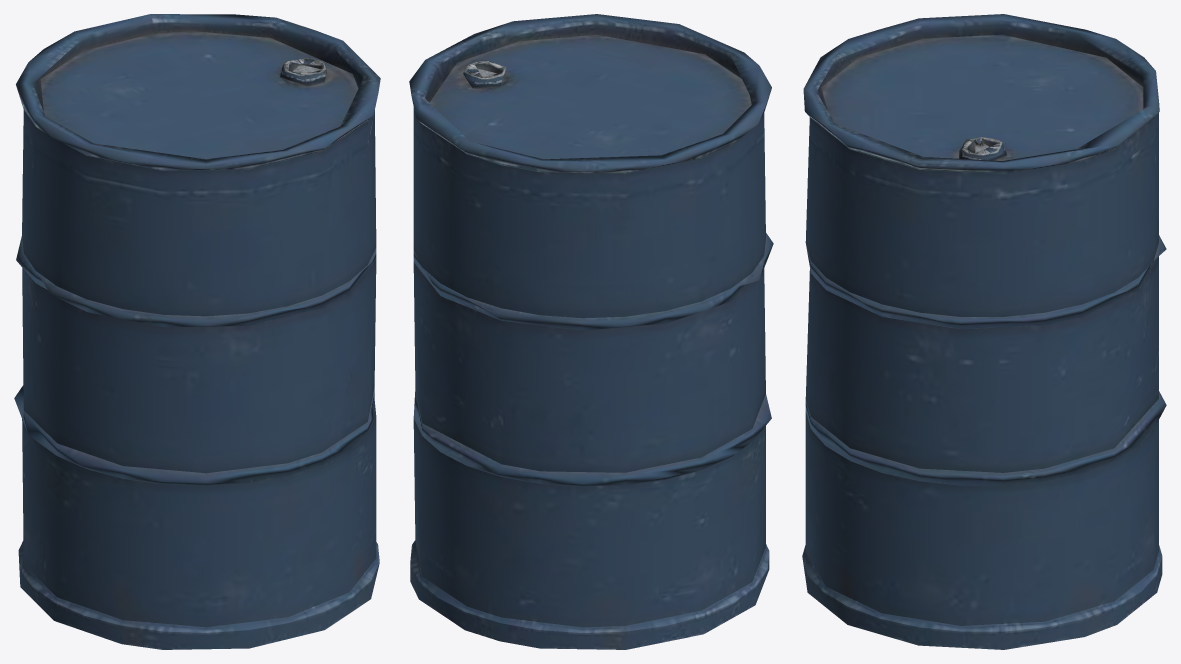
The model's file is p_barrel_rust.glb.
3 renders of one model, left to right at view 1: azimuth 30°, elevation 25°; view 2: azimuth 150°, elevation 25°; view 3: azimuth 270°, elevation 25°, orthographic.
Visible parts, largest first — view 1: barrel_03; view 2: barrel_03; view 3: barrel_03.
Boxes of the visible parts, x1,y1,x2,y2 form: barrel_03: (14, 14, 380, 649); barrel_03: (409, 14, 773, 649); barrel_03: (802, 14, 1166, 649).
Size of the model in its own units: 0.6265 by 0.9305 by 0.6311.
Materials: 1 (1 with a texture image).
